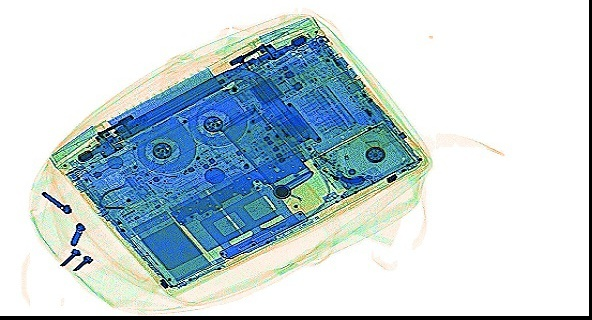zippooil: (217, 104, 315, 195)
